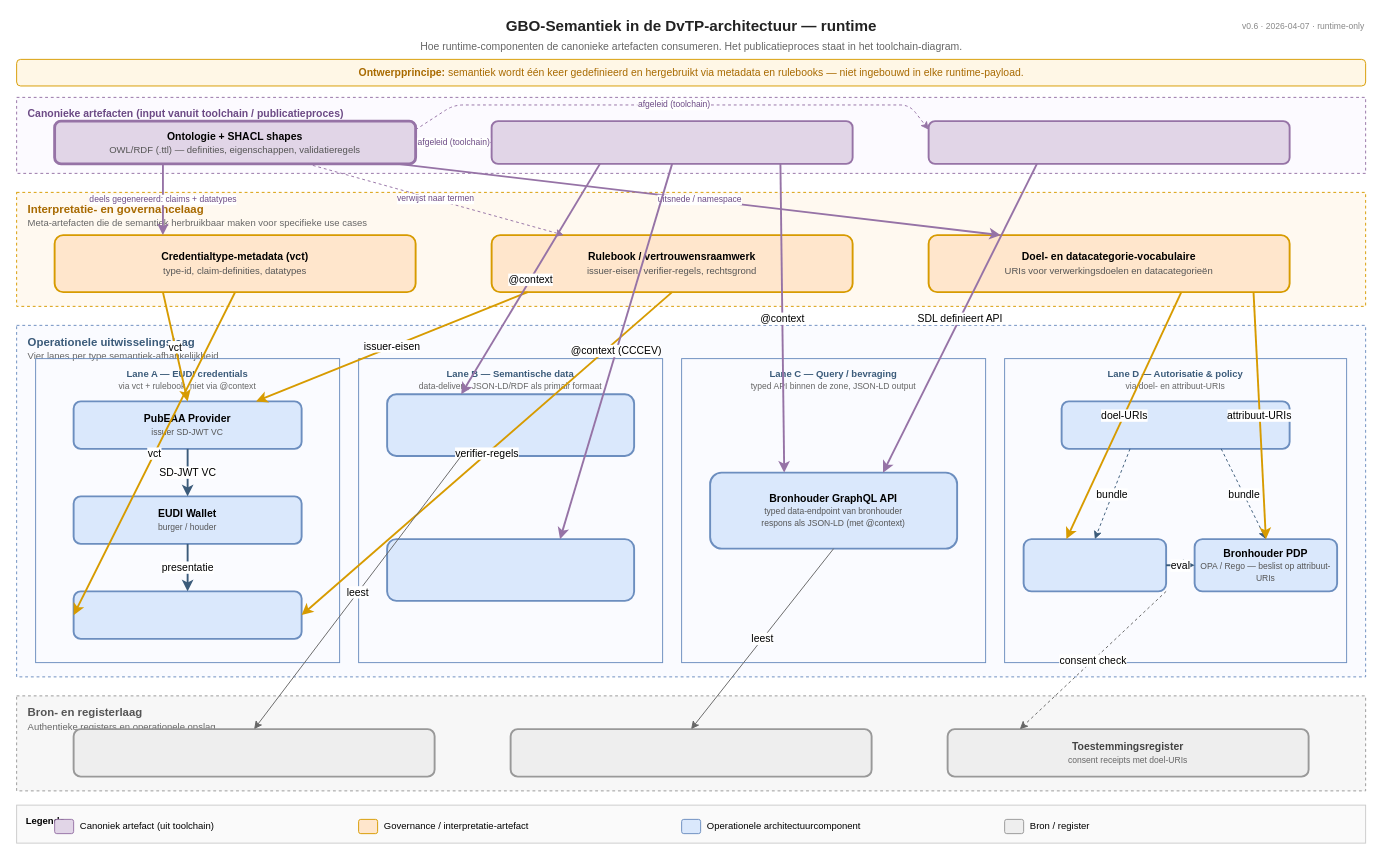
This 1382x860 diagram has some shape labels left out. The centre of each missing label's shape, as x and y in pixels:
Authentic Source Interface contract op authentieke gegevens respons als JSON-LD: the point at 510,424
Authentieke registraties BRP, KvK, BAG, RSGB ...: the point at 253,752
Bron-systemen / databases administratieve back-ends bronhouder: the point at 690,752
GraphQL SDL types + velden afgeleid uit informatiemodel: the point at 1108,142
JSON-LD @context dereferenceable URI; brug JSON ↔ RDF: the point at 671,142
PAP — OCI Registry policy author / signed OPA bundles: the point at 1175,424
PEP Policy Enforcement Point: the point at 1094,565
SDG-OOTS Adapter CCCEV evidence — RDF/JSON-LD mapping naar EU Core Vocabularies: the point at 510,569
Verifier (FSC Manager) verifieert presentatie: the point at 187,614
